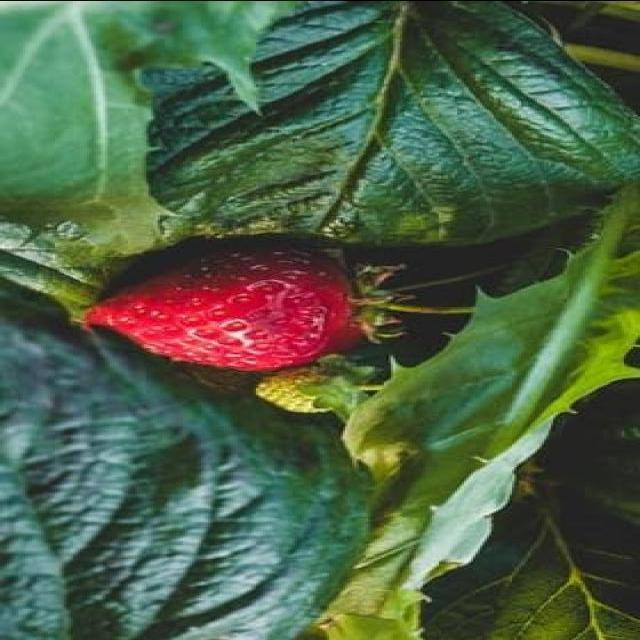ripe: (87, 244, 360, 371)
unripe: (254, 370, 350, 411)
